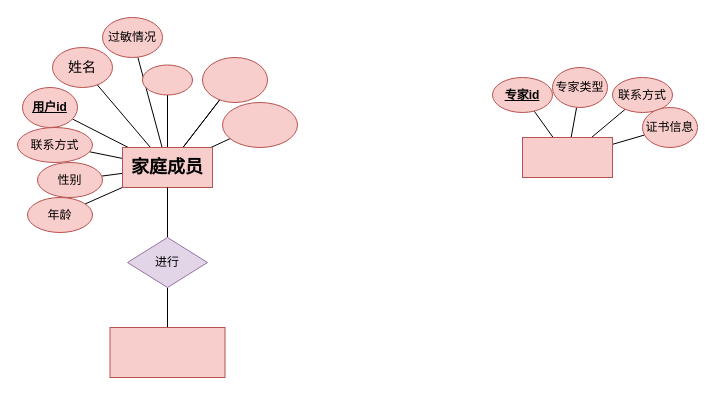
The diagram is 715 pixels wide and 395 high, and some of its shapes have lost their labels. The box of each missing label's shape, as (x1, y1, x2, y2) in pixels:
在线专家: (522, 136, 612, 178)
家庭可收集检查: (109, 326, 225, 378)
指定专家id: (222, 102, 298, 148)
病史: (142, 64, 192, 95)
目前药物/治疗: (202, 56, 268, 102)
